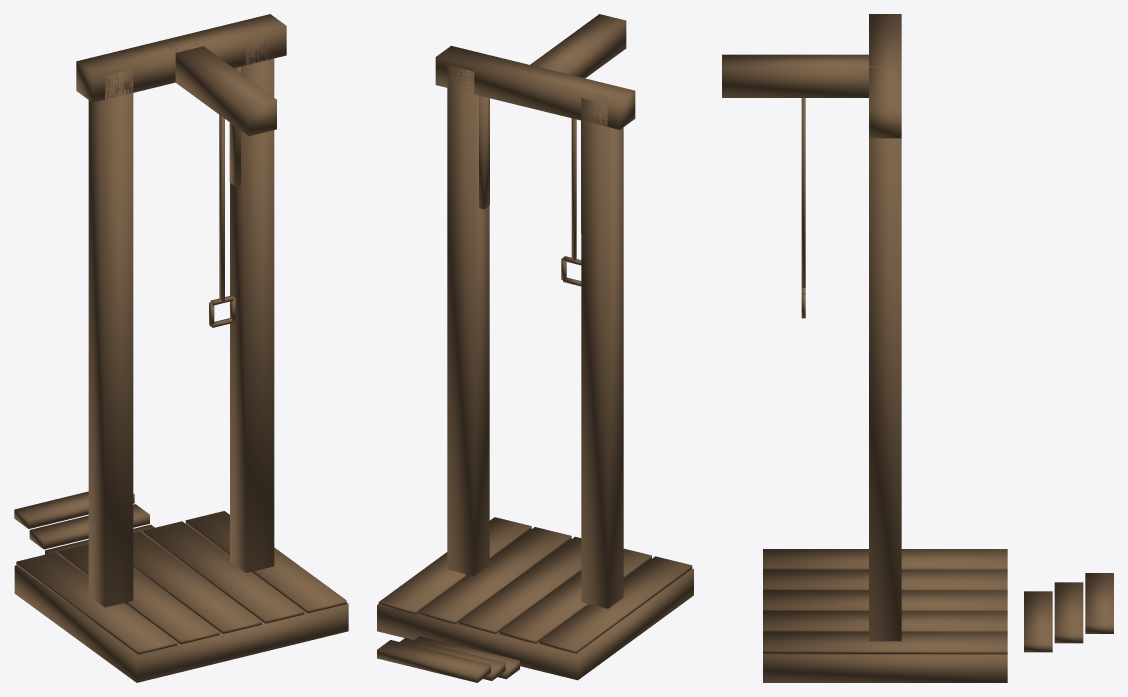
File: gallows.glb
The picture shows the model from 3 angles, left to right: view 1: azimuth 30°, elevation 25°; view 2: azimuth 150°, elevation 25°; view 3: azimuth 270°, elevation 25°; orthographic projection. The views are drawn at different scales.
Visible parts, largest first — view 1: gallows; view 2: gallows; view 3: gallows.
Part boxes in pixels (x1=…): gallows: x1=14, y1=14, x2=348, y2=682; gallows: x1=377, y1=14, x2=693, y2=682; gallows: x1=722, y1=14, x2=1113, y2=682.
Size of the model in its own units: 1.2 by 3.08 by 1.92.
